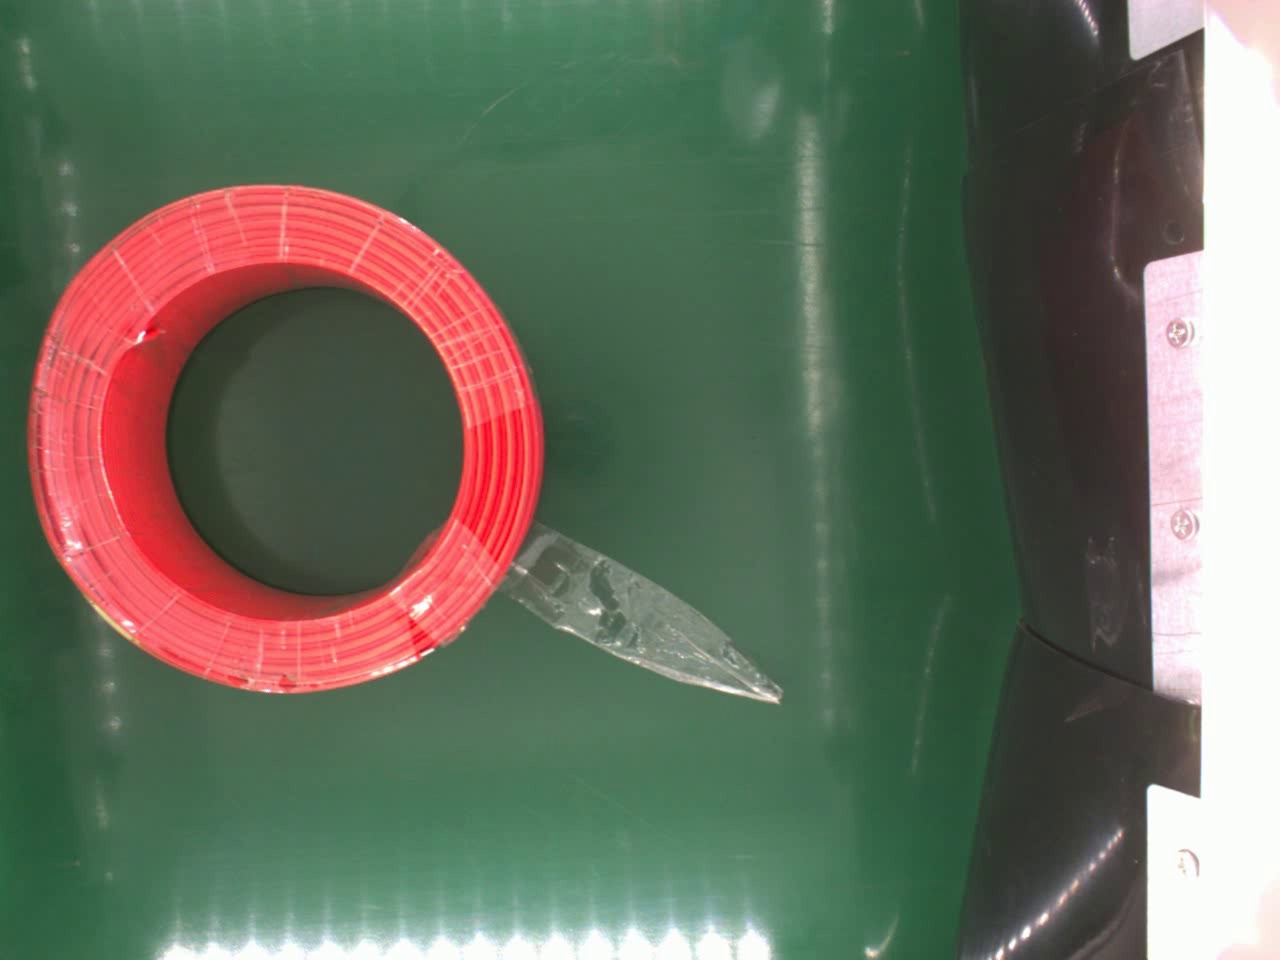red: (29, 182, 542, 699)
